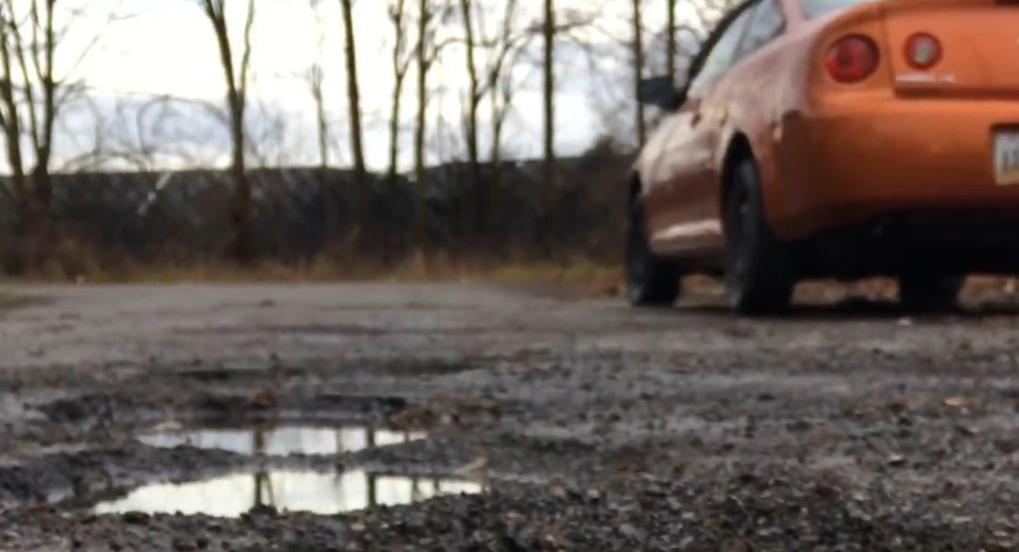pothole: (159, 303, 512, 487), (71, 454, 570, 550)
